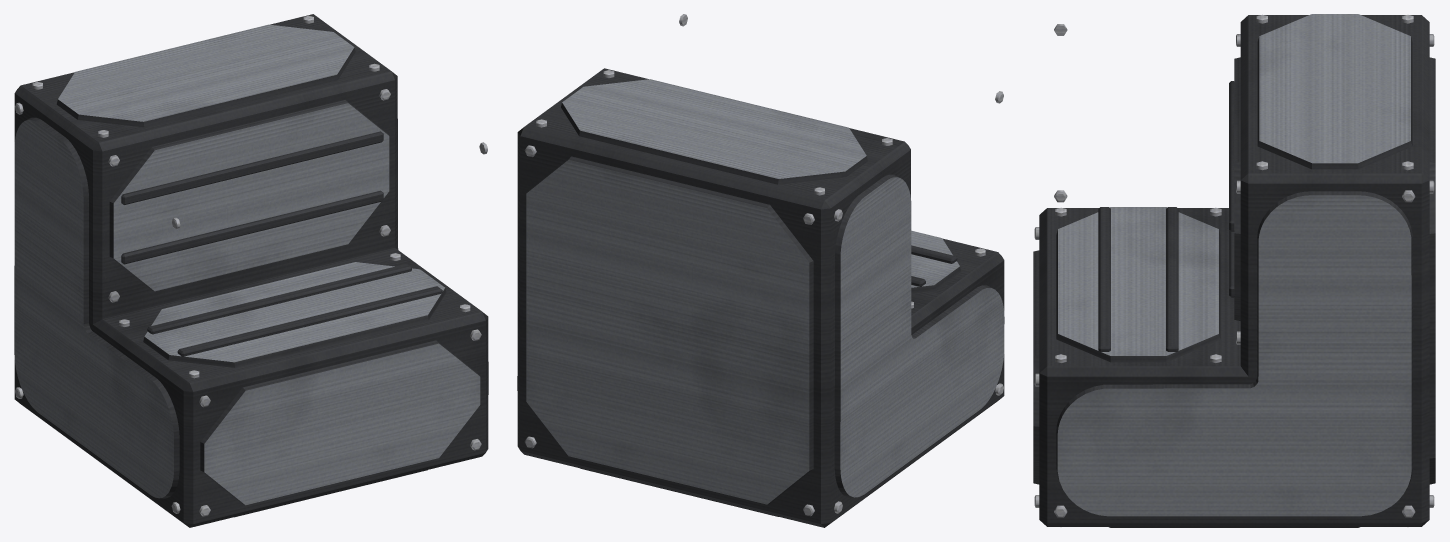
File: R4B_Step.glb
3 views of the same model, side by side, from view 1: azimuth 30°, elevation 25°; view 2: azimuth 150°, elevation 25°; view 3: azimuth 270°, elevation 25° (orthographic). The views are drawn at different scales.
Parts seen in each view (by area): view 1: R4B_Step; view 2: R4B_Step; view 3: R4B_Step.
Boxes of the visible parts, left/top/right/bottom form: R4B_Step: left=14, top=14, right=488, bottom=527; R4B_Step: left=517, top=14, right=1004, bottom=527; R4B_Step: left=1033, top=14, right=1435, bottom=527.
Bounding box in the file's own units: 0.52 × 0.52 × 0.52.
3 materials, 3 textured.
